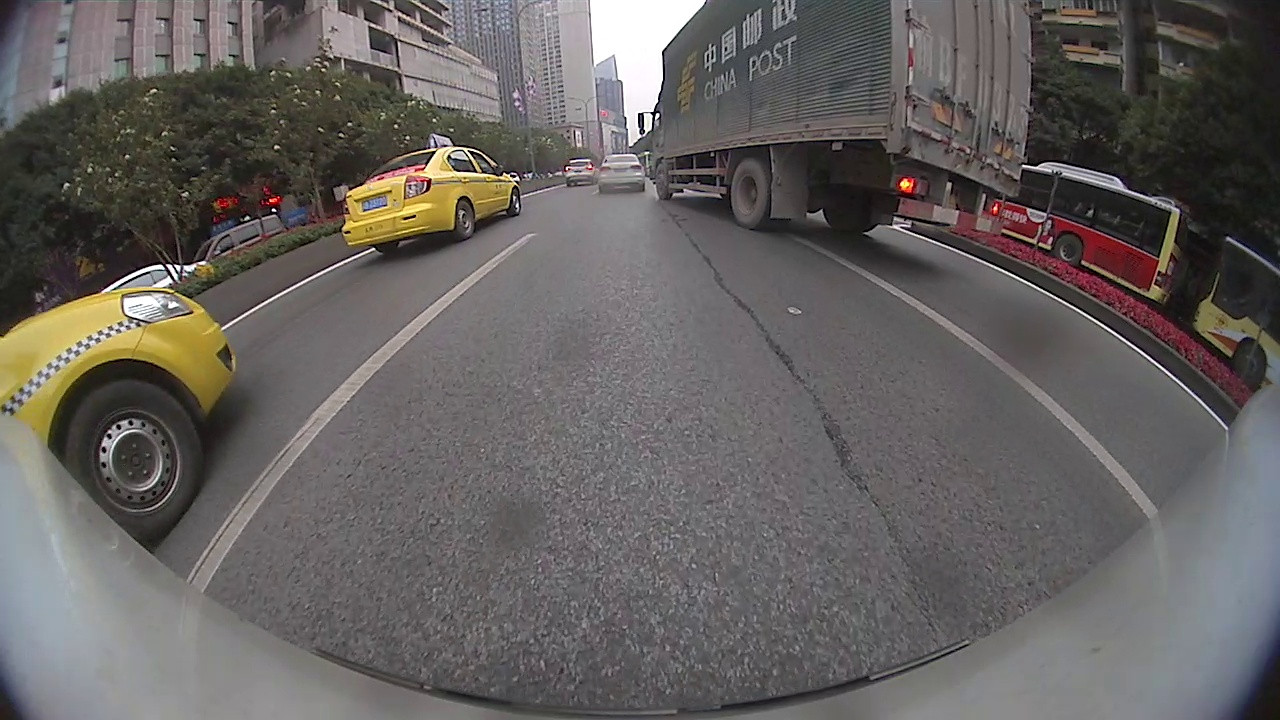bus: (989, 162, 1184, 306), (1191, 239, 1278, 390)
car: (1, 287, 240, 542), (343, 134, 521, 256), (198, 213, 284, 266), (104, 259, 206, 292), (597, 153, 648, 195), (561, 157, 597, 189)
front: (64, 377, 204, 535), (1229, 336, 1268, 389), (655, 162, 672, 200), (510, 186, 522, 217)
rear: (729, 156, 780, 230), (1055, 230, 1083, 267), (455, 200, 476, 241)
truck: (648, 1, 1033, 230)
